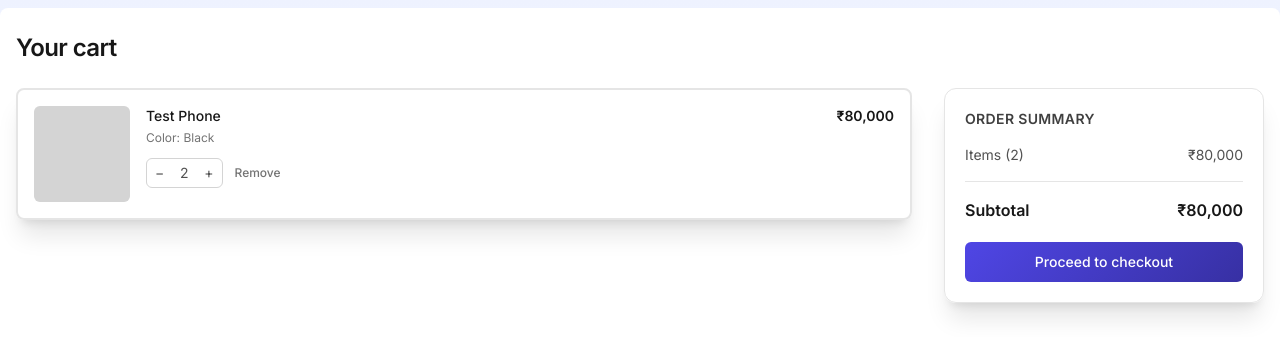
Test: Cart page › updates quantity via the stepper
Expected: the link "Test Phone" is shown, top-left (146, 107), bottom-right (221, 124)
Click the button named "increase quantity": coordinates (209, 173) top-left (196, 159), bottom-right (222, 187)
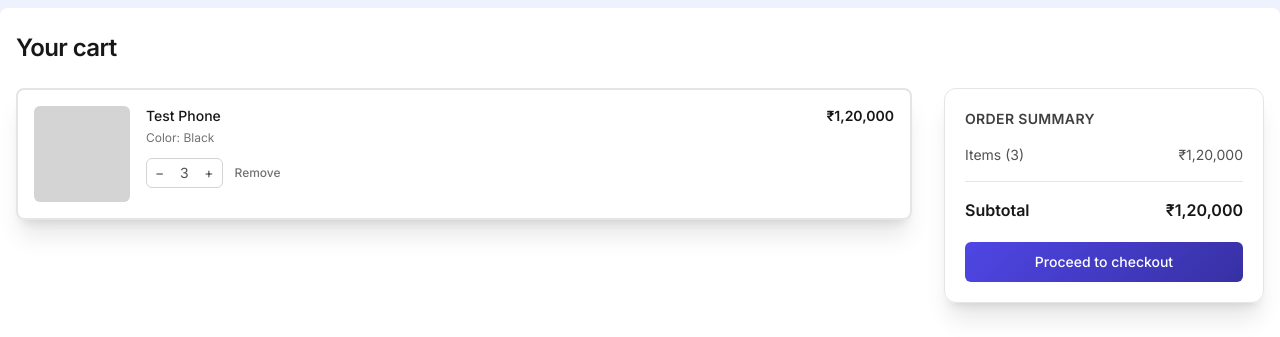
Expected: the text "3" is shown, top-left (180, 164), bottom-right (189, 181)
